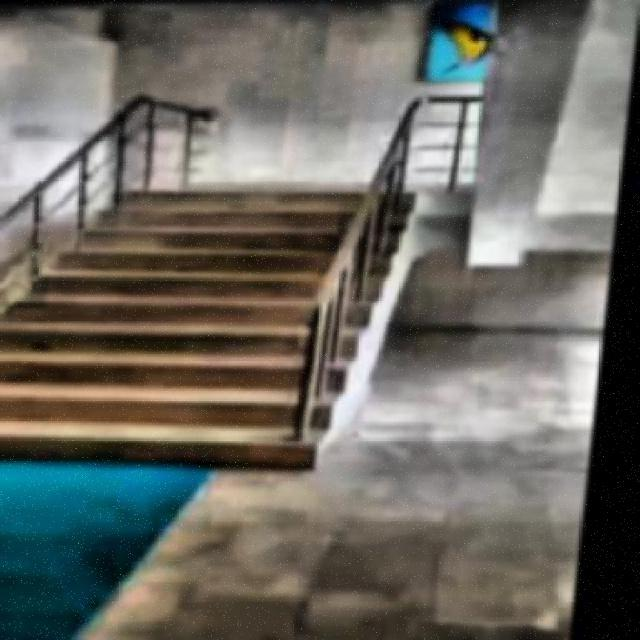stair: (1, 186, 437, 474)
